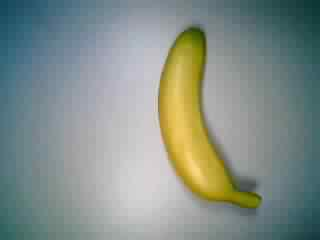banana: (156, 25, 267, 208)
